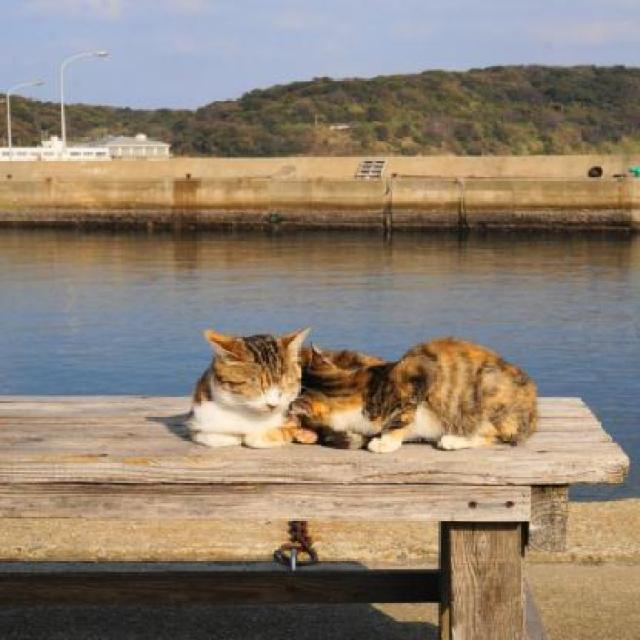cat: (293, 344, 541, 448), (188, 320, 380, 449)
